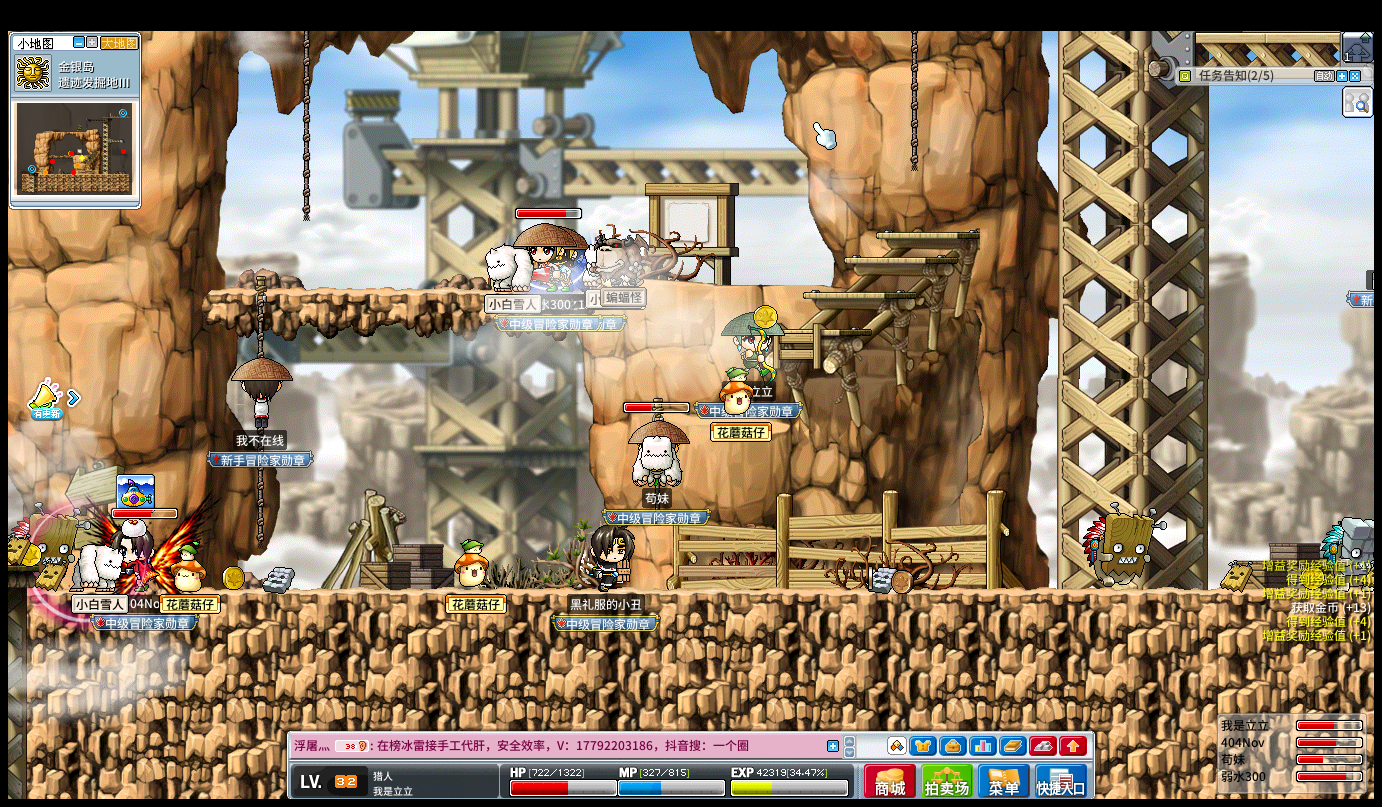floor: (209, 287, 597, 298), (662, 281, 846, 290), (670, 414, 799, 425), (742, 326, 872, 336), (802, 290, 915, 298), (842, 256, 953, 264), (873, 231, 980, 239)
monster: (1080, 502, 1159, 590), (1320, 516, 1374, 591)
rope: (299, 30, 310, 228), (301, 31, 312, 222), (908, 31, 919, 171), (253, 274, 264, 355), (255, 470, 265, 550)
